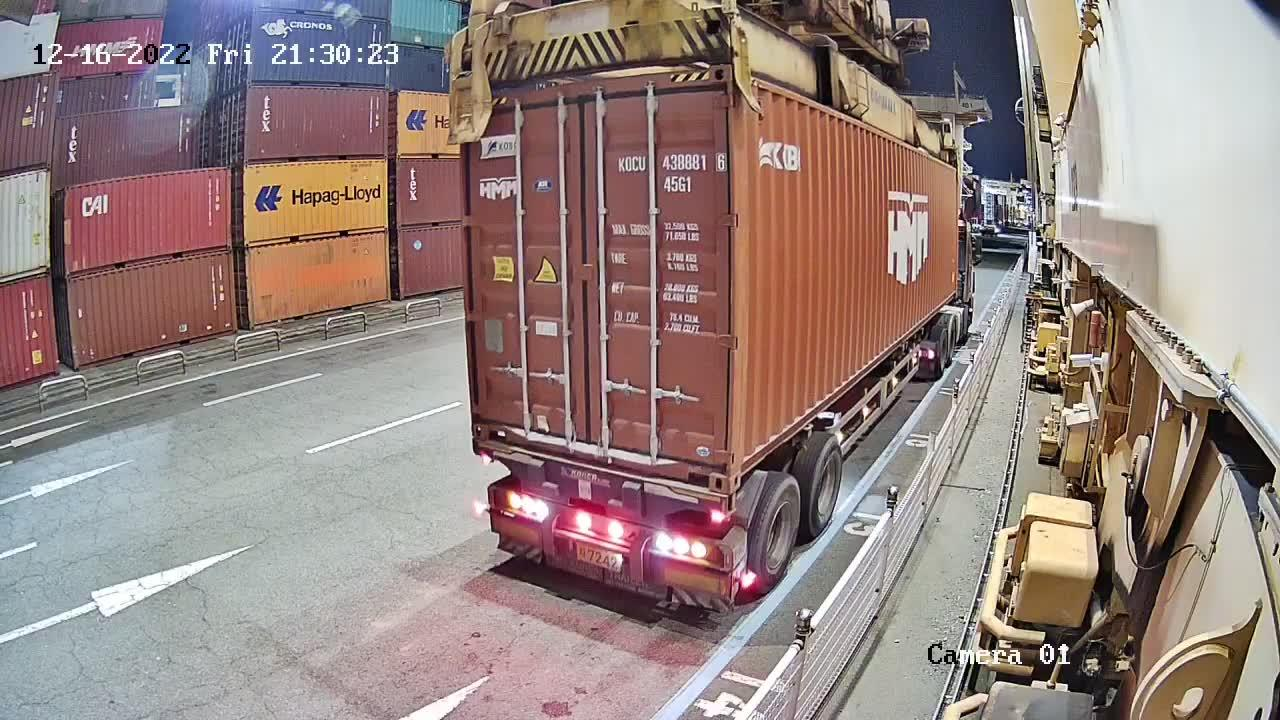Chassis: (474, 447, 731, 544)
Container: (470, 408, 733, 496)
Hole_L: (731, 439, 758, 493), (470, 406, 502, 445)
Hole_R: (689, 440, 731, 494)
Tire: (749, 476, 802, 593), (805, 439, 847, 543)
